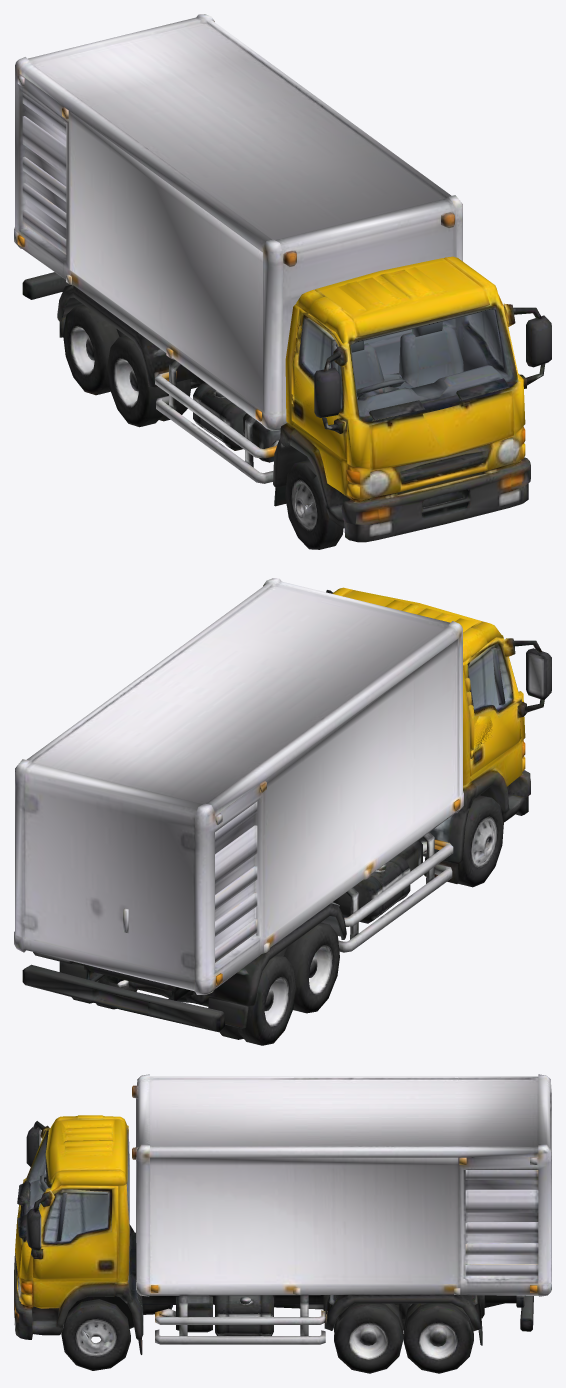
The model's file is car_van_hd.glb.
The picture shows the model from 3 angles, top to bottom: view 1: azimuth 30°, elevation 25°; view 2: azimuth 150°, elevation 25°; view 3: azimuth 270°, elevation 25°; orthographic projection. The views are drawn at different scales.
Visible parts, largest first — view 1: tripo_node_bcf19aa0-c23b-4e72-8e54-909c96adeb9f; view 2: tripo_node_bcf19aa0-c23b-4e72-8e54-909c96adeb9f; view 3: tripo_node_bcf19aa0-c23b-4e72-8e54-909c96adeb9f.
Boxes of the visible parts, x1,y1,x2,y2 form: tripo_node_bcf19aa0-c23b-4e72-8e54-909c96adeb9f: [14, 14, 551, 549]; tripo_node_bcf19aa0-c23b-4e72-8e54-909c96adeb9f: [14, 578, 551, 1045]; tripo_node_bcf19aa0-c23b-4e72-8e54-909c96adeb9f: [14, 1074, 551, 1373].
Size of the model in its own units: 0.3936 by 0.455 by 0.981.
Materials: 1 (1 with a texture image).
